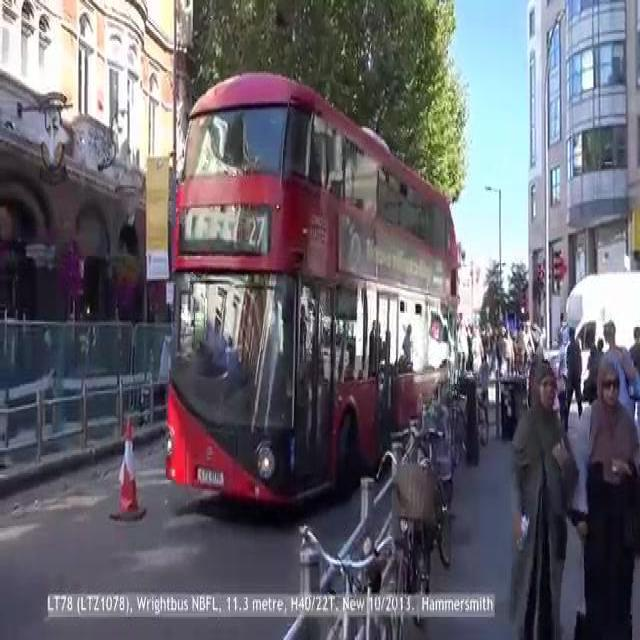motorcycle: (165, 66, 466, 503)
